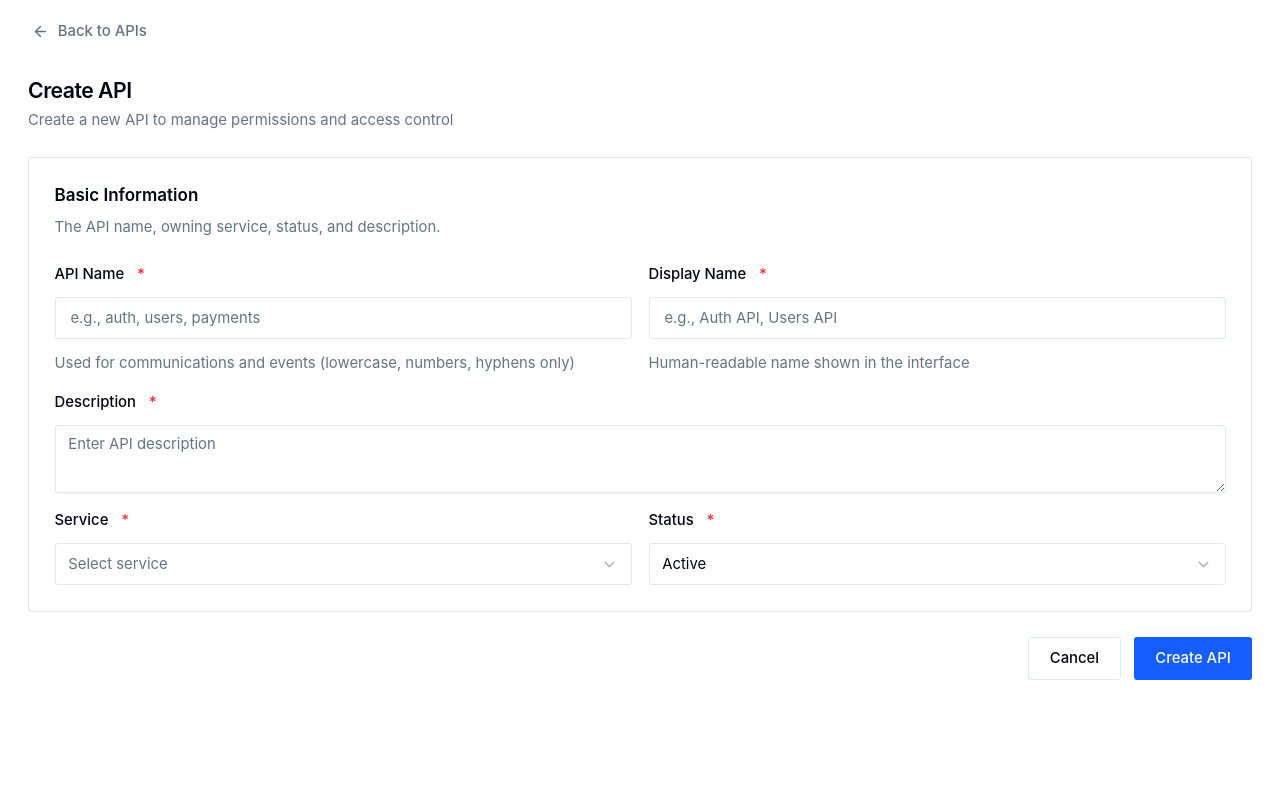
ApiAddOrUpdateForm › maps structured server field errors onto the offending inputs
The width and height of the screenshot is (1280, 812).
Type "billing" into the field labelled "API Name *". click: (343, 318)
box: [54, 297, 632, 340]
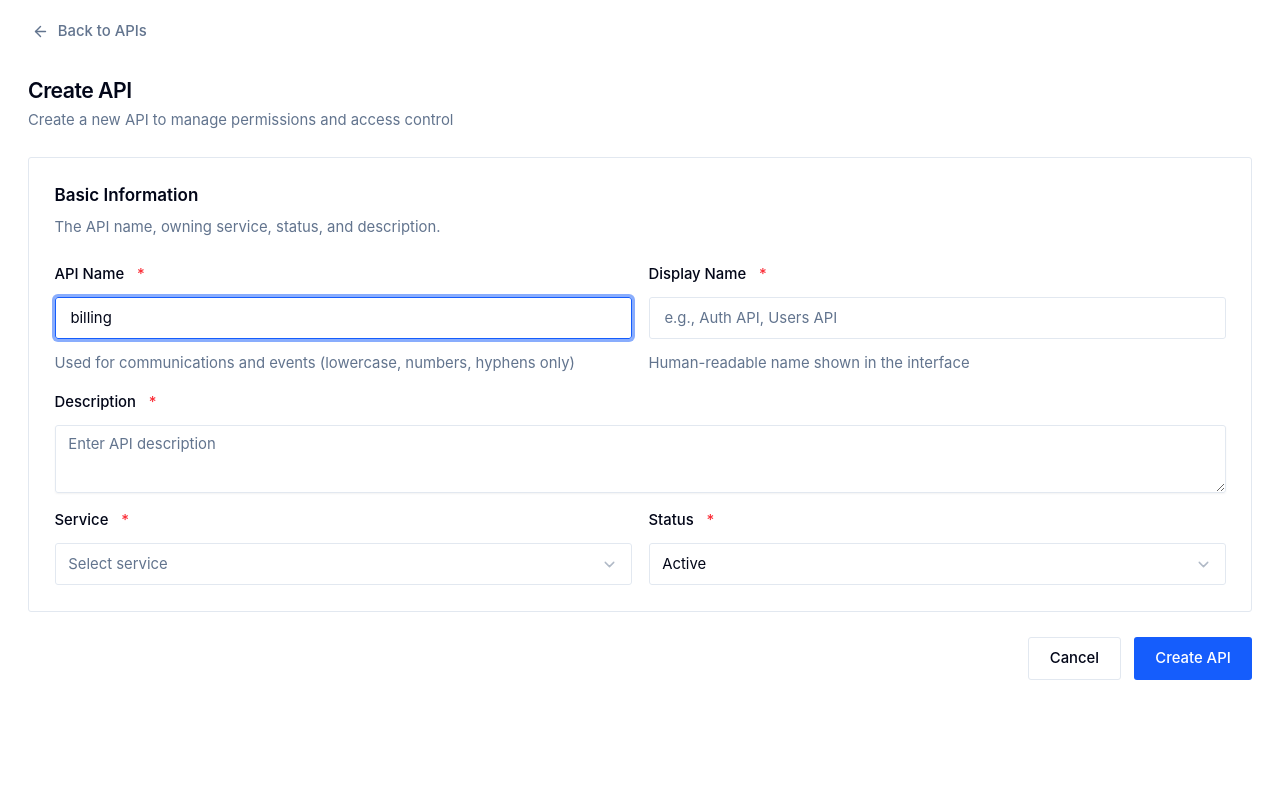
Type "Billing API" into the field labelled "Display Name *". click: (937, 318)
box: [648, 297, 1226, 340]
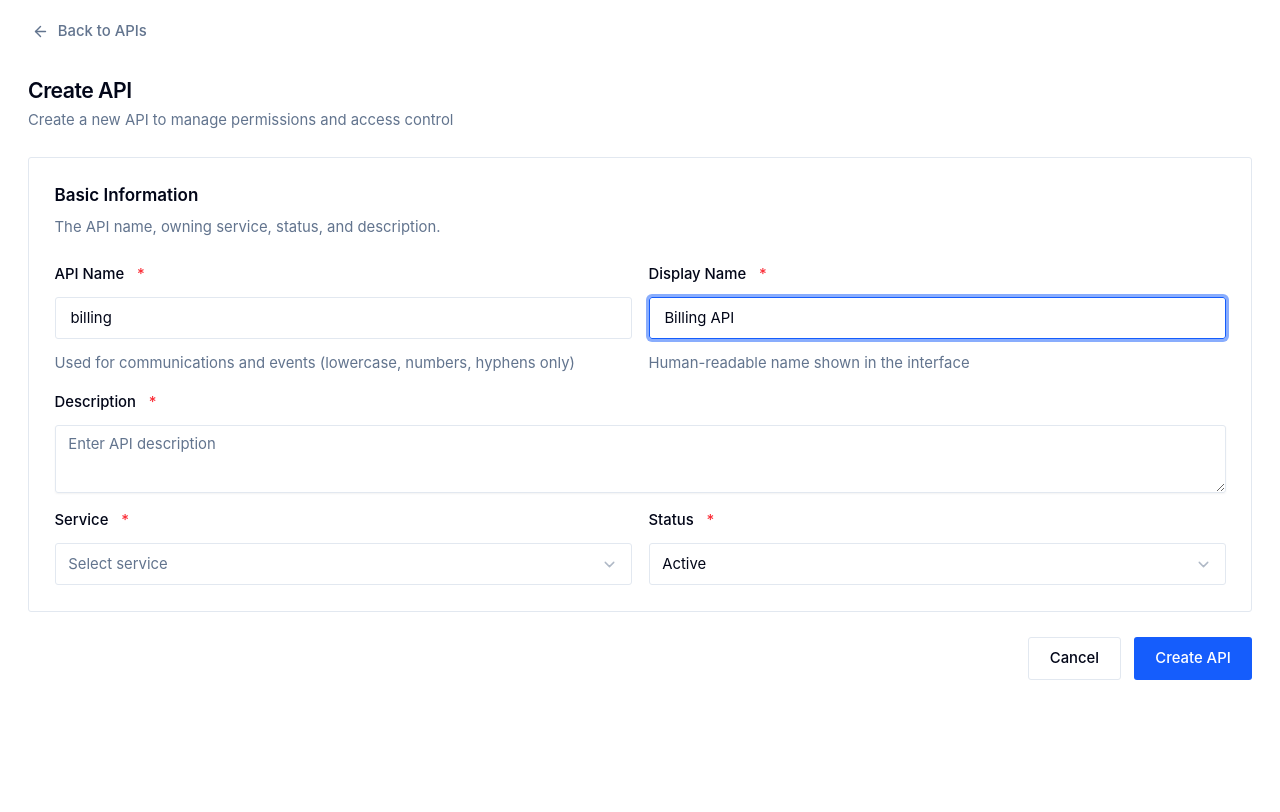
Type "Invoices and payments" into the text box labelled "Description *". click: (640, 459)
box: [54, 425, 1226, 493]
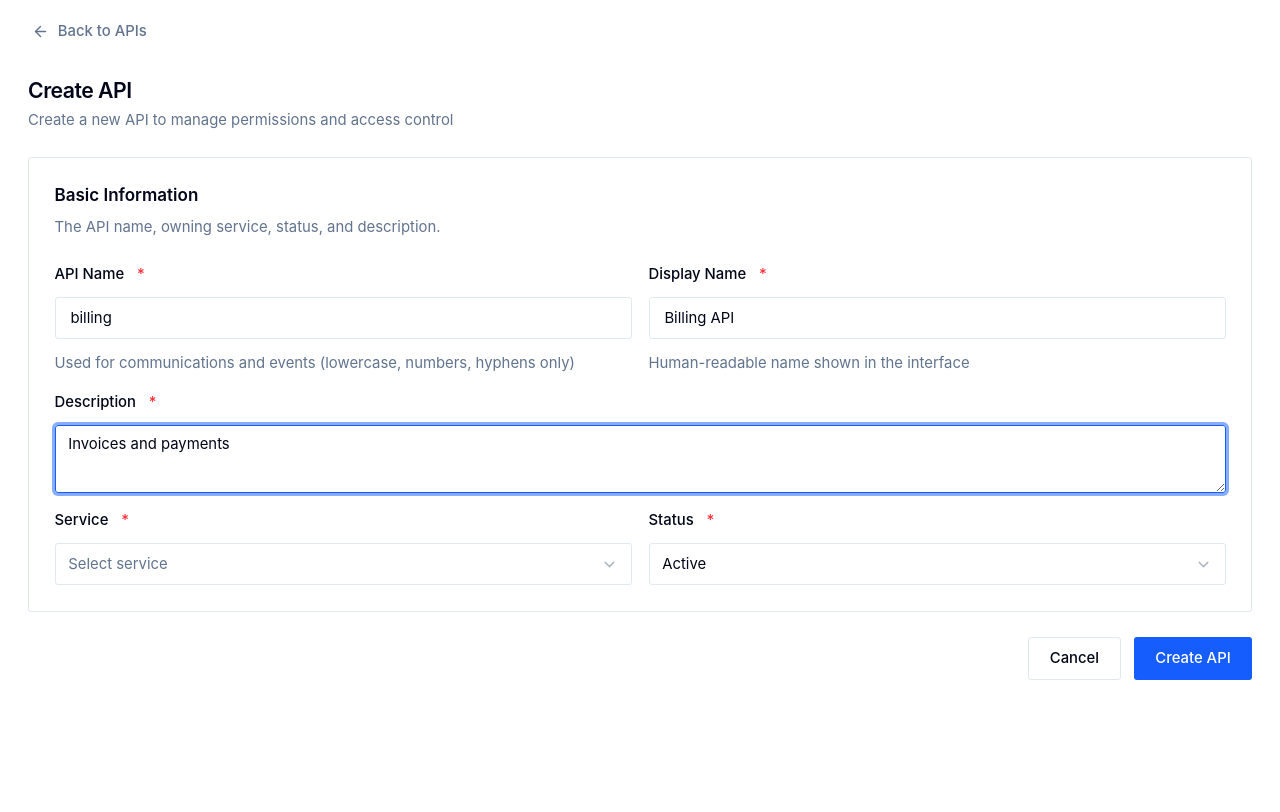
Click the dropdown labelled "Select service". click: (118, 564)
box: [54, 543, 632, 585]
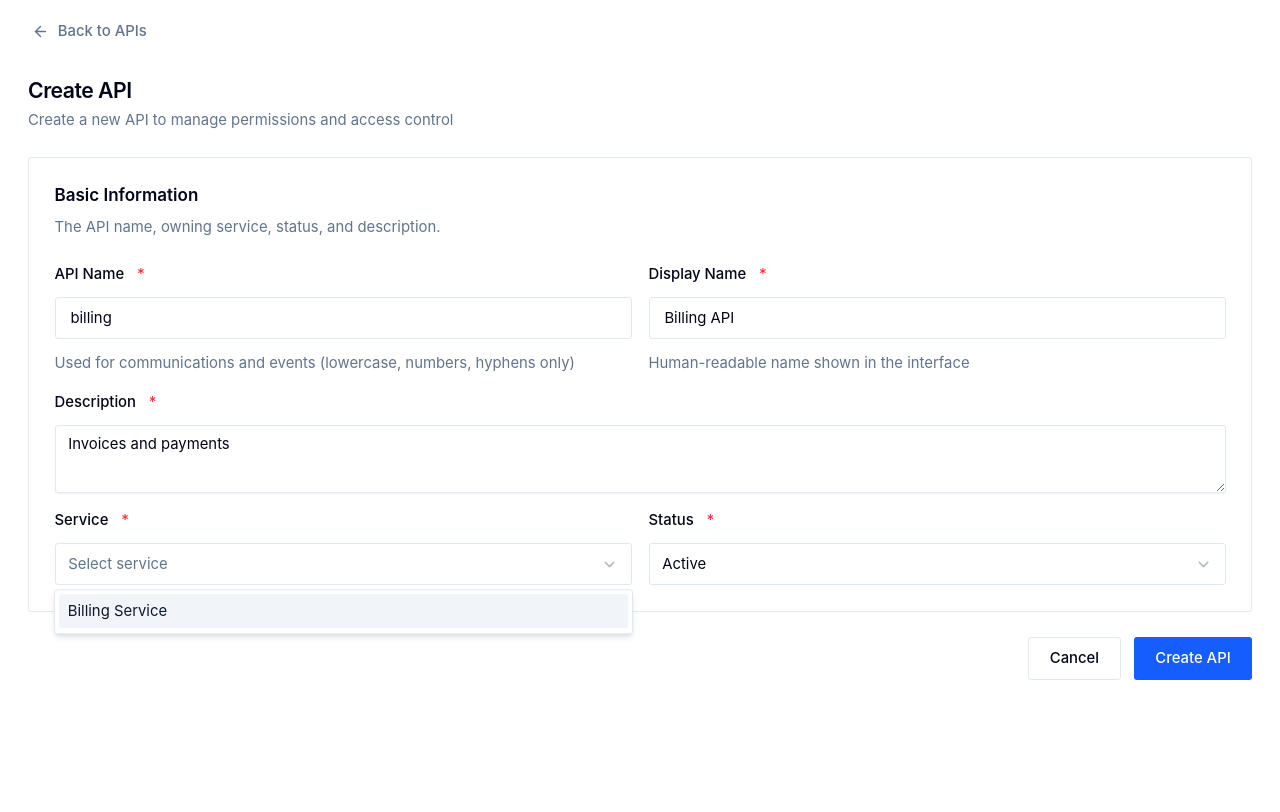
Click the option "Billing Service". click: (117, 611)
box: [59, 594, 628, 628]
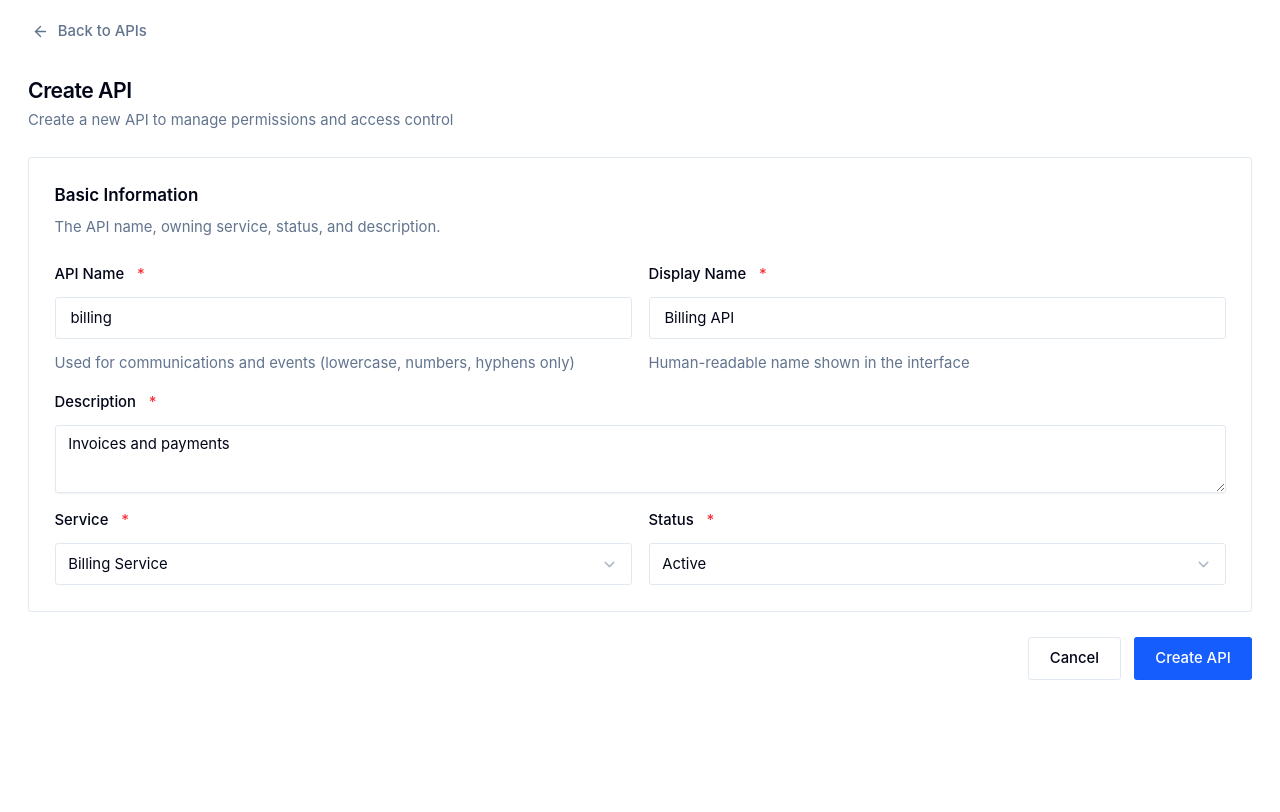
Click the button "Create API". click: (1193, 659)
box: [1134, 637, 1252, 680]
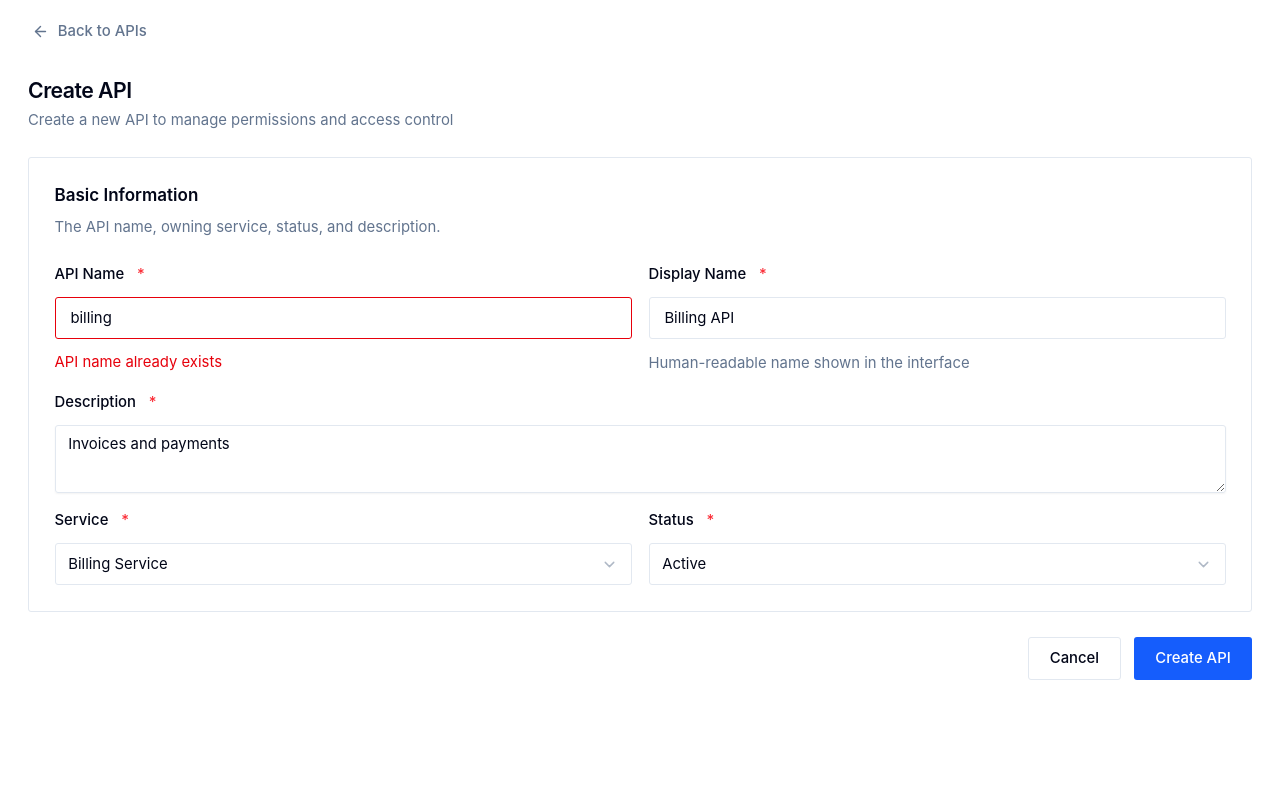
expect the text "API name already exists" is shown: met, box [54, 353, 222, 371]
